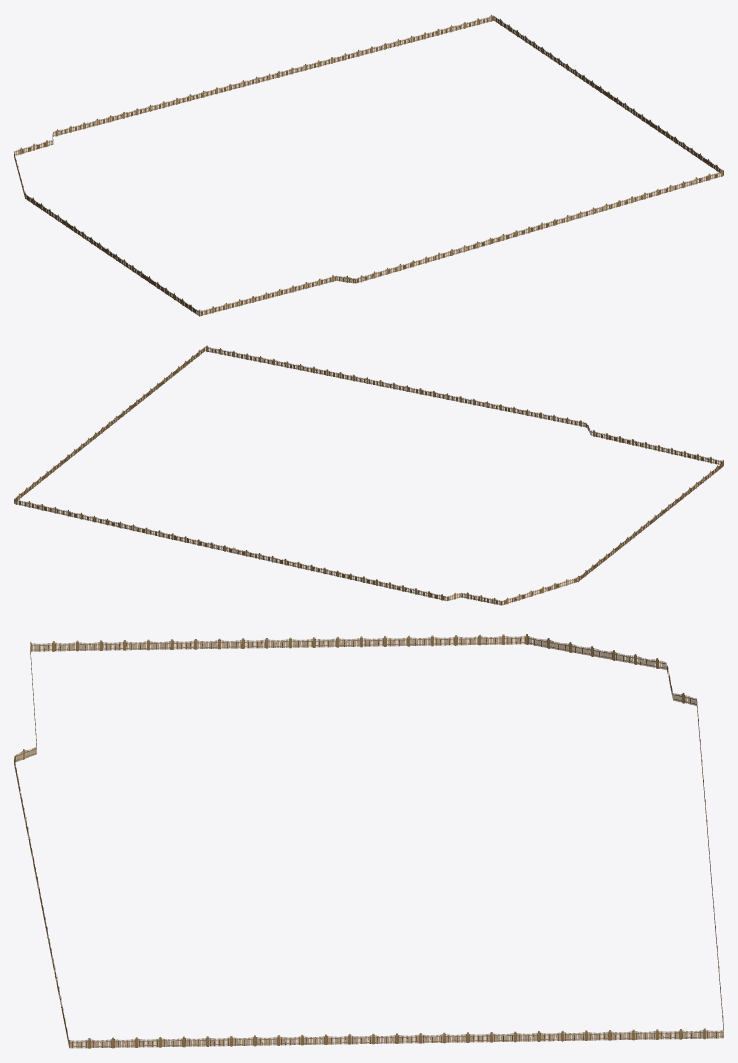
Rendered from fence_50_31_0040507_25.dae.
3 views of the same model, one above another, from view 1: azimuth 30°, elevation 25°; view 2: azimuth 150°, elevation 25°; view 3: azimuth 270°, elevation 25° (orthographic). The views are drawn at different scales.
Visible parts, largest first — view 1: MainNode; view 2: MainNode; view 3: MainNode.
Boxes of the visible parts, x1,y1,x2,y2 form: MainNode: [14, 14, 723, 316]; MainNode: [14, 345, 723, 605]; MainNode: [14, 634, 723, 1048].
Bounding box in the file's own units: 121 × 89.96 × 1.5.
1 material, 1 textured.
